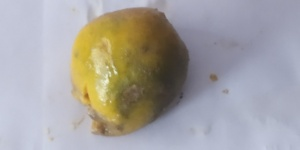BAD: (67, 10, 189, 135)
